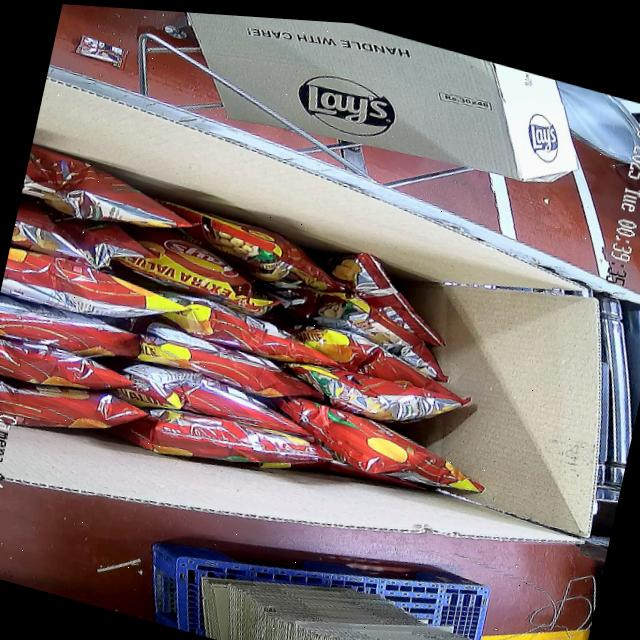MASALA: (0, 141, 527, 558)
